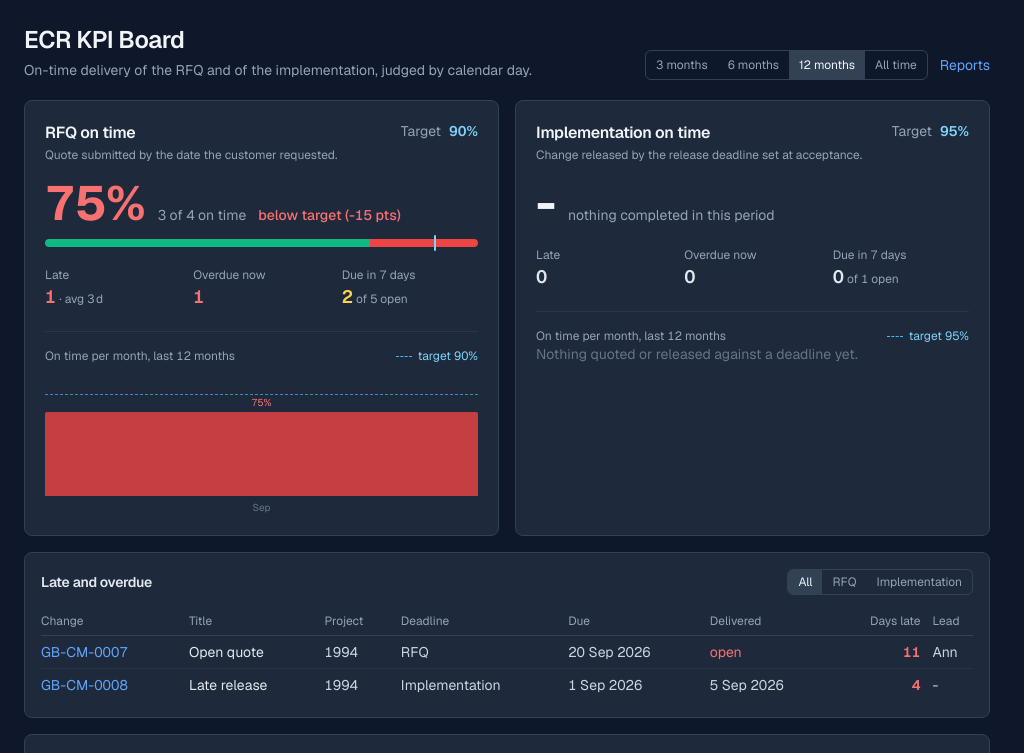
Test: EcrKpiBoardPage › lists misses with links and filters them by deadline
This screenshot has width=1024, height=753.
Expected: the text "open" is shown, [710,643,742,661]
Click the button "Implementation" at (919, 582), box [866,570,972,594]
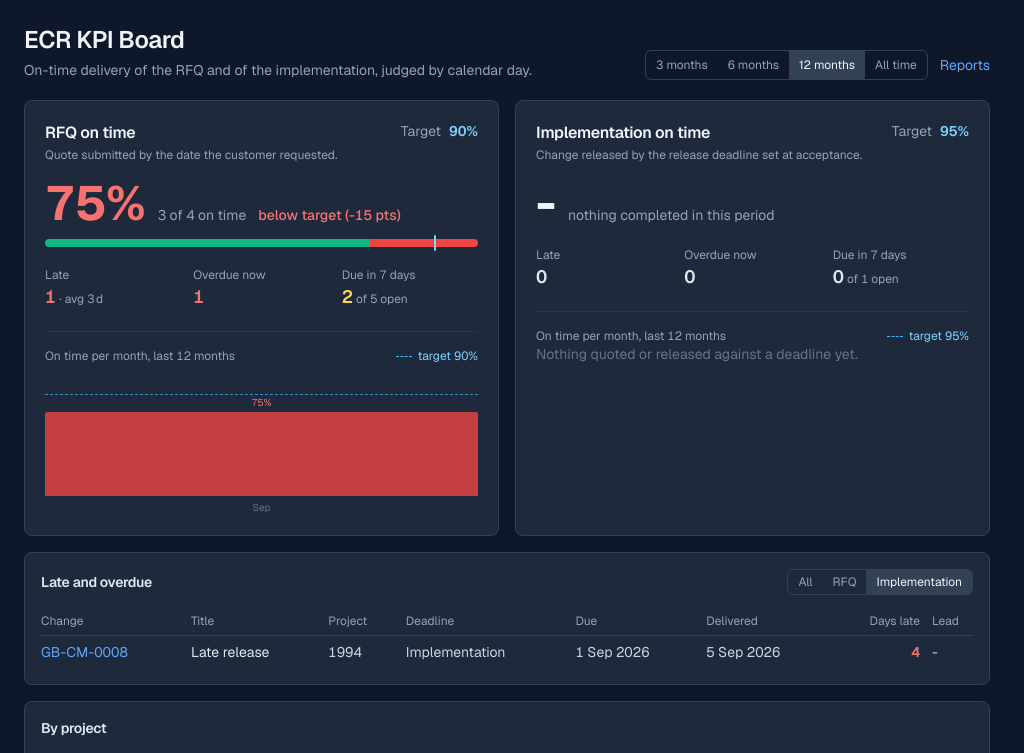
Expected: the link "GB-CM-0008" is shown, [41,643,128,661]
Now the link "GB-CM-0007" is gone
